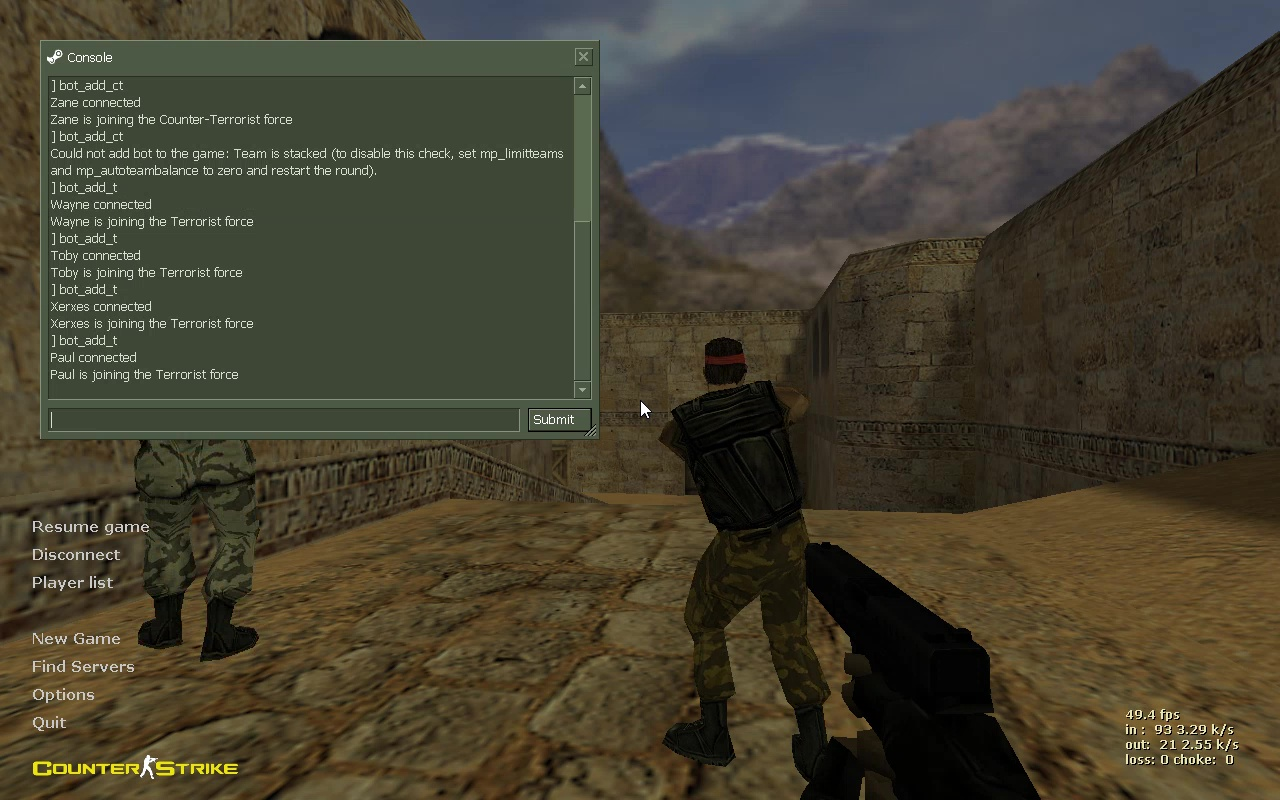terr1: (658, 340, 838, 779)
